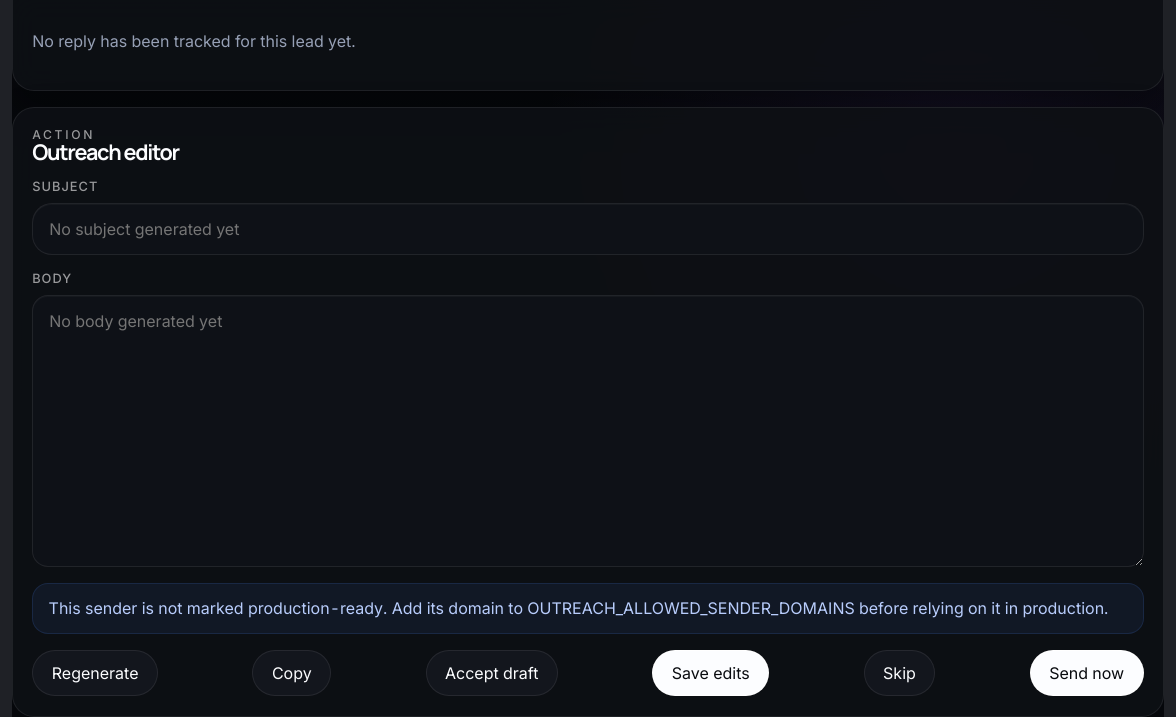
Test case: LeadDetailPage › sends an approved outreach draft through the real send hook
(page scrolled)
Step 1. Click the button "Send now" → {"x": 1087, "y": 673}, box [1030,650,1144,696]
(page scrolled)
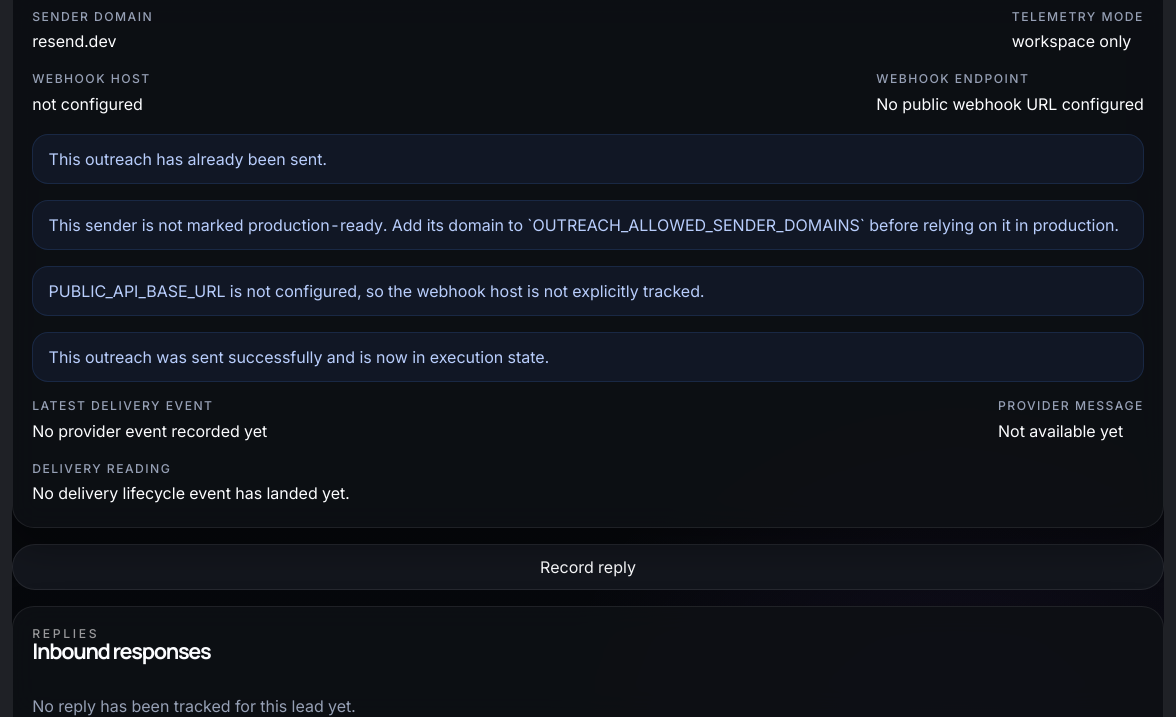
Expected: the text "This outreach was sent successfully and is now in execution state." is shown, [32,332,1144,382]
Expected: the text "This outreach has already been sent." is shown 2 times
